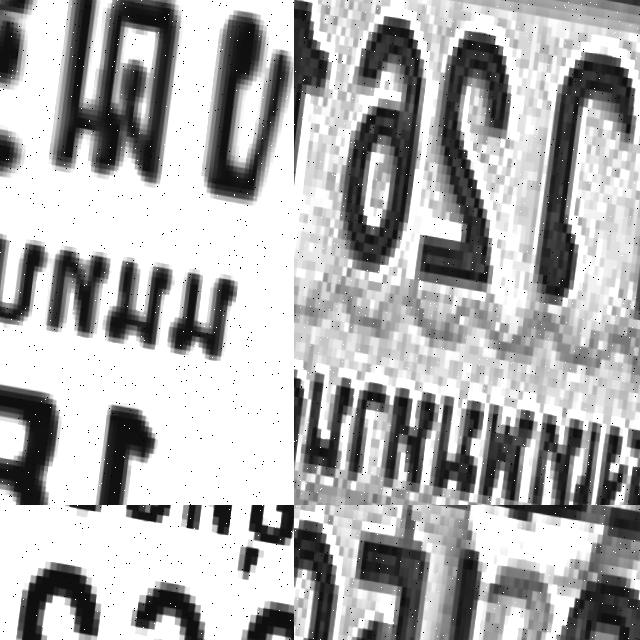license-plate: (294, 0, 640, 505), (0, 0, 294, 505), (294, 505, 640, 640), (0, 505, 294, 640)
